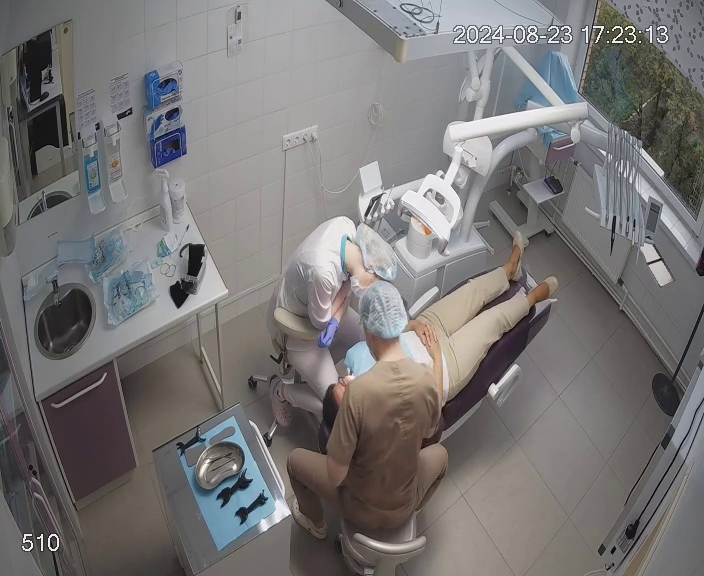Patient: (322, 232, 557, 439)
